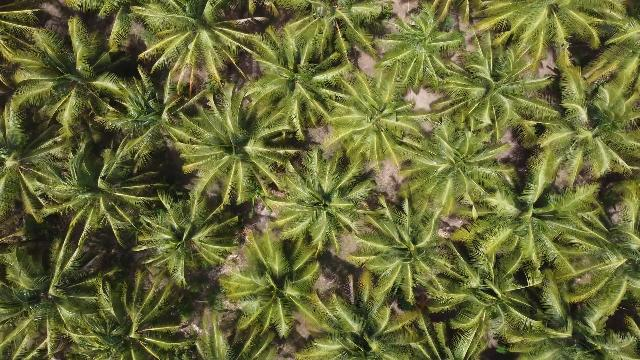trees: (5, 14, 142, 149), (421, 226, 557, 356), (530, 182, 638, 338), (3, 234, 133, 360), (22, 136, 164, 251), (169, 85, 294, 212), (528, 56, 639, 190), (437, 29, 555, 149), (470, 3, 637, 79), (218, 229, 325, 347), (268, 149, 379, 261), (300, 270, 437, 360), (403, 120, 514, 230), (320, 74, 426, 177), (136, 190, 245, 290), (137, 4, 262, 90), (2, 109, 81, 234), (375, 6, 460, 91), (275, 5, 379, 68)
